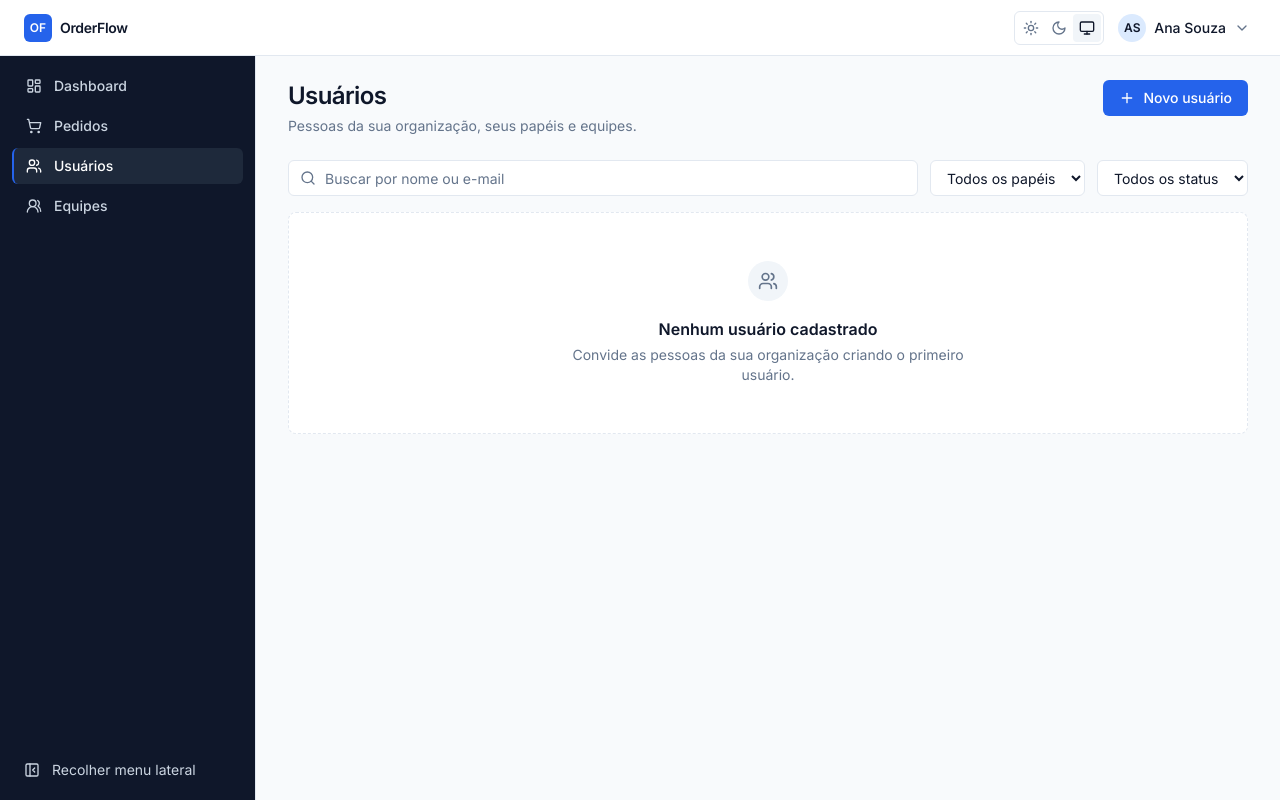
Test: UsersPage › maps backend validation errors to the form fields
Click the button "Novo usuário": click(1176, 98) [1103,80,1248,116]
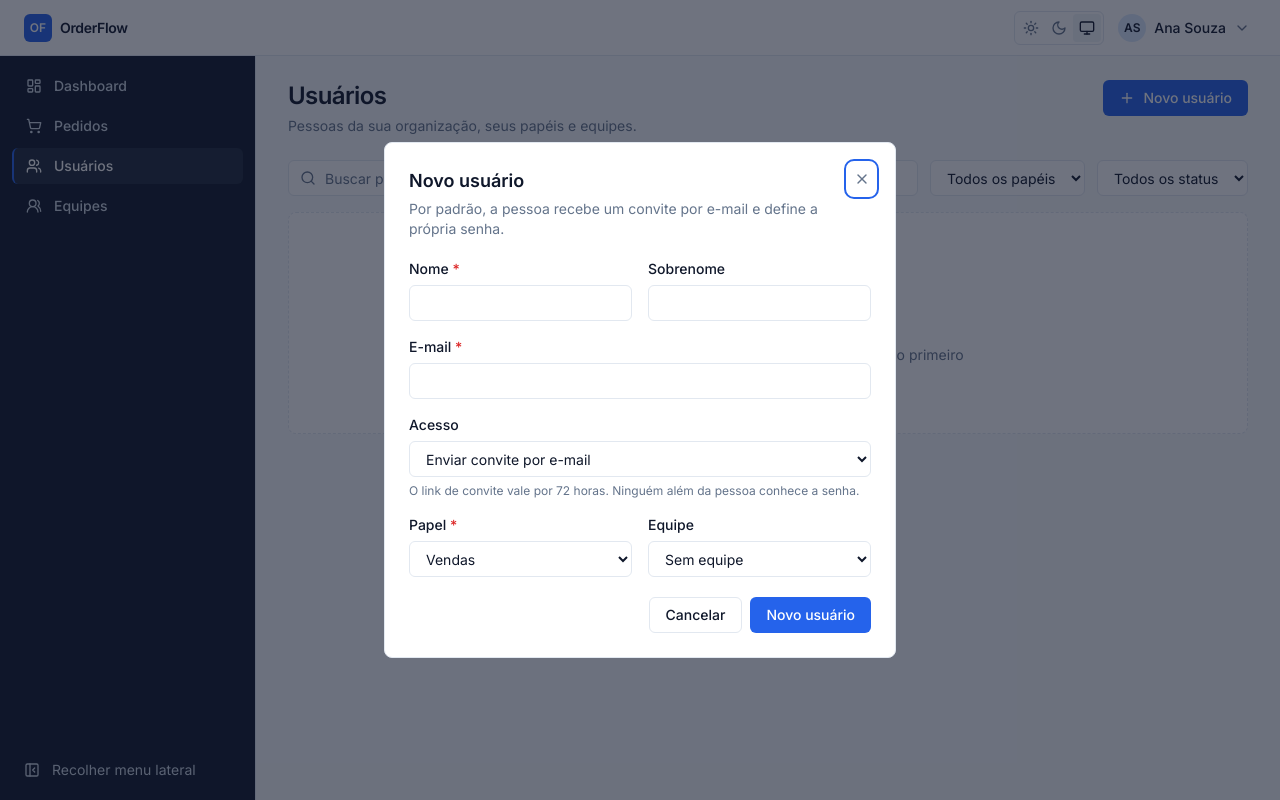
In the field labelled "Nome *": (520, 303) [409,285,632,321], type "Carla"
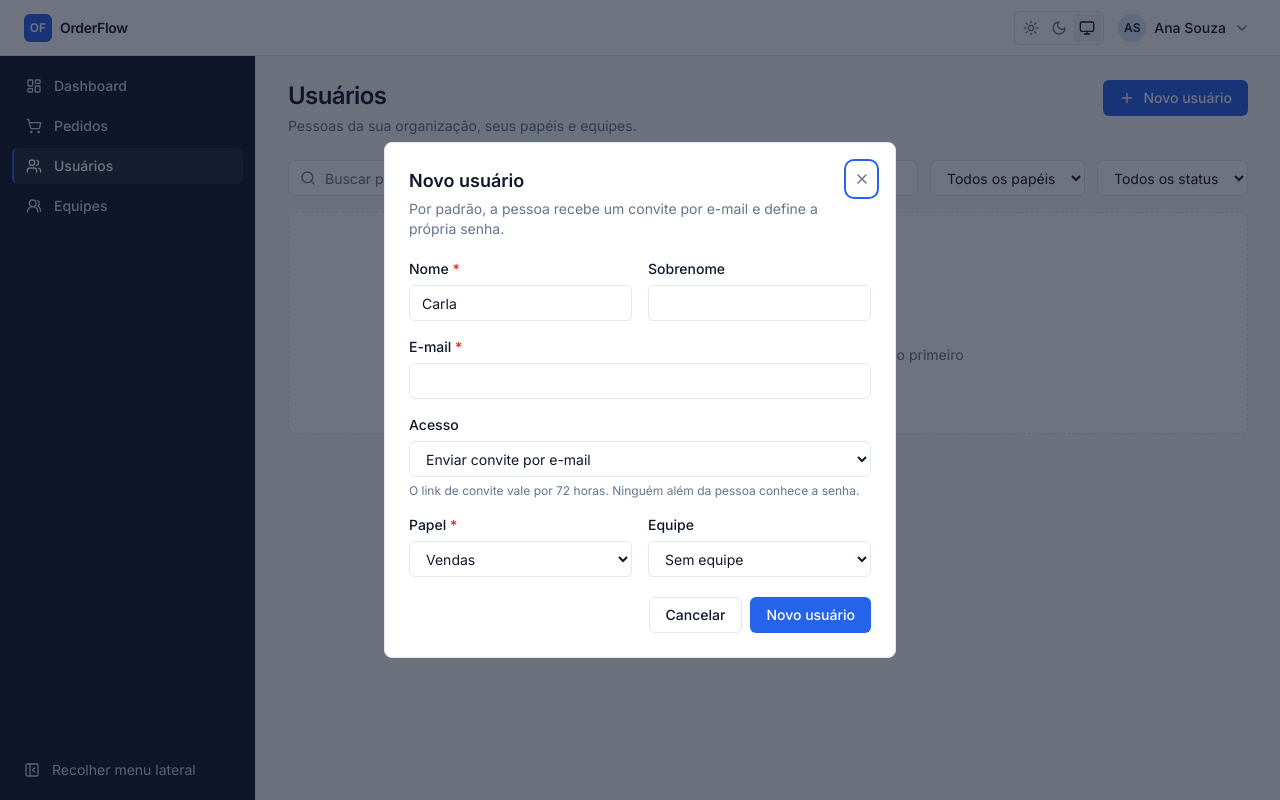
In the field labelled "E-mail *": (640, 381) [409,363,871,399], type "carla@acme.com"
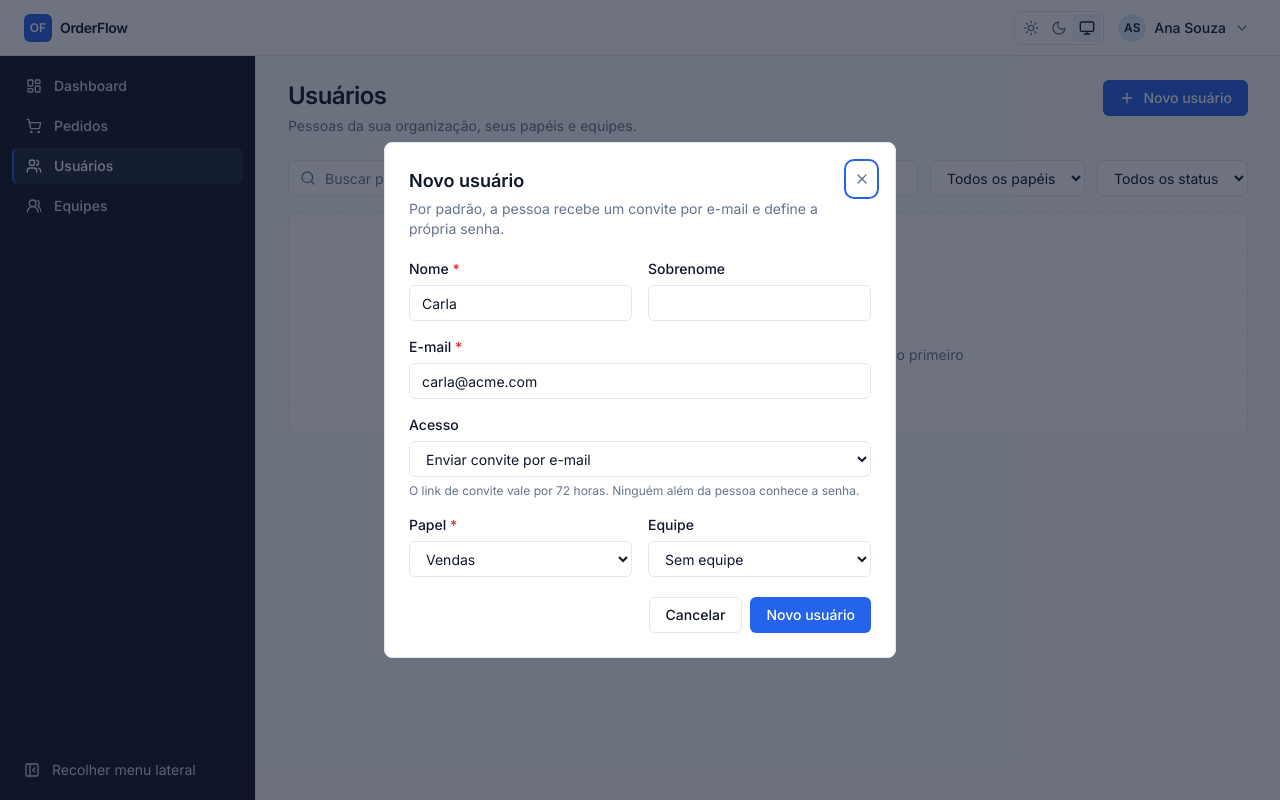
Select "Definir uma senha inicial" in the dropdown labelled "Acesso": (640, 459) [409,441,871,477]
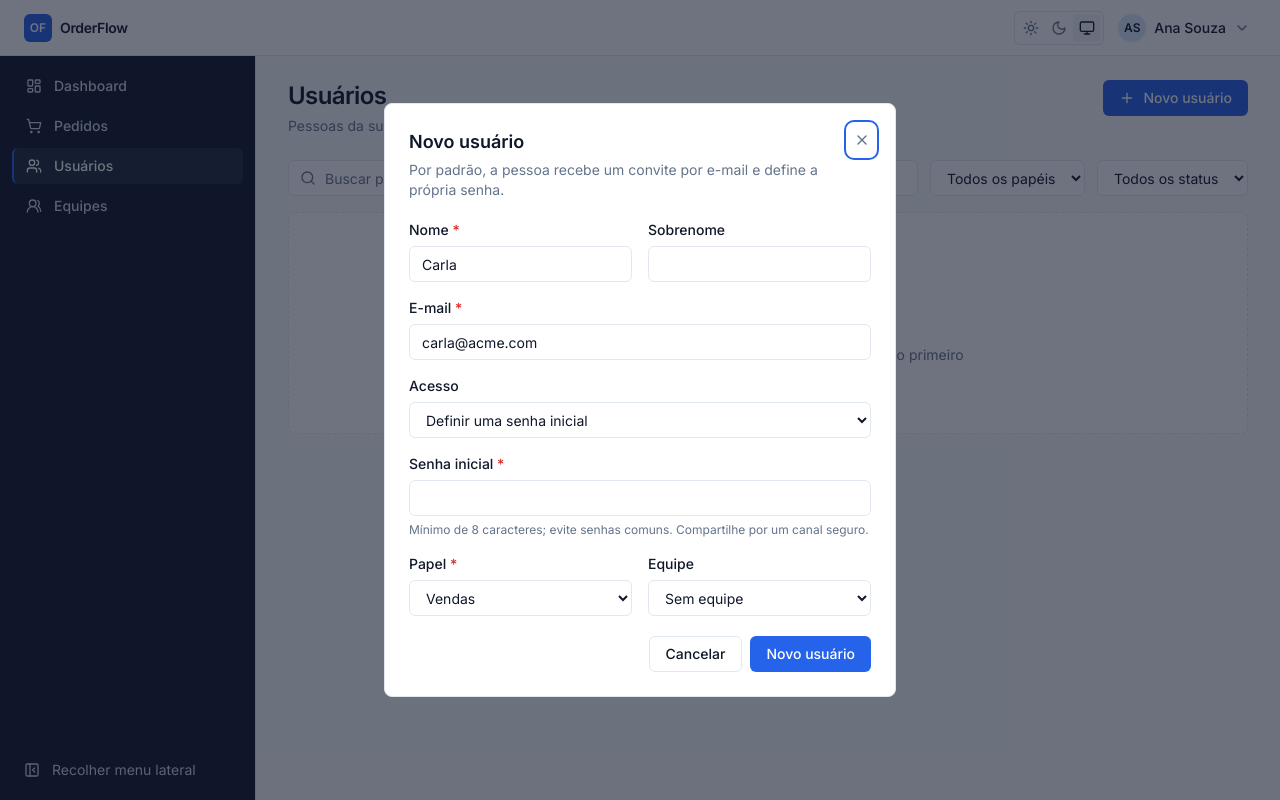
In the password field labelled "Senha inicial *": (640, 498) [409,480,871,516], type "senha12345"
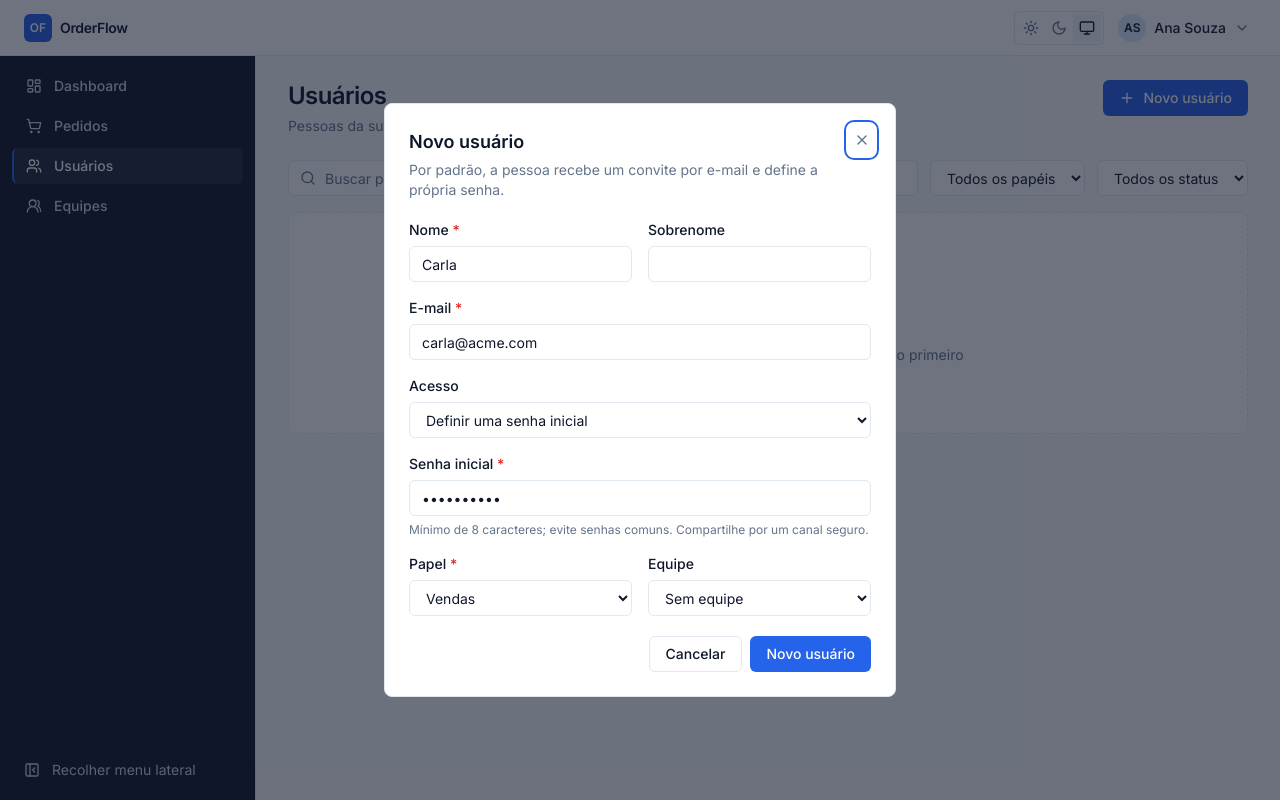
Submit the form with id "user-form", box [409,220,871,616]
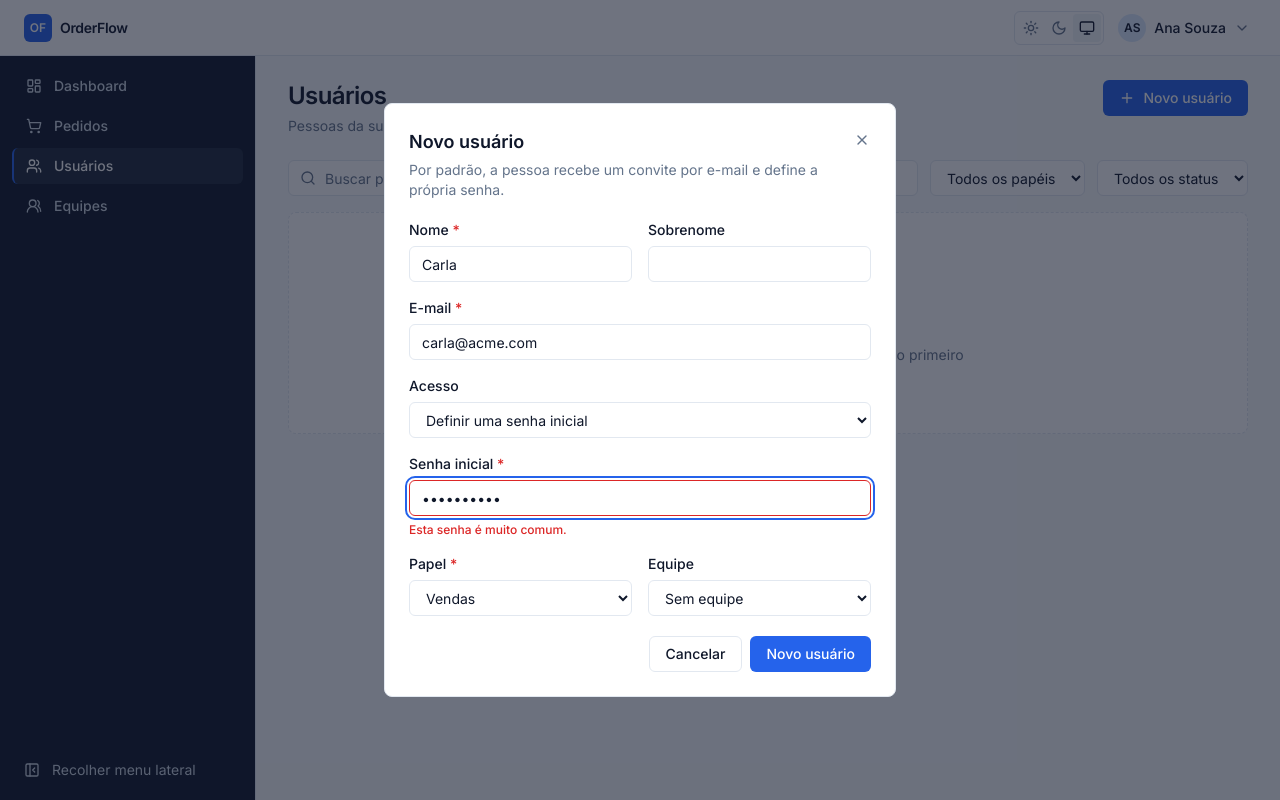
Expected: the dialog shows "Esta senha é muito comum.", [409,522,567,537]
